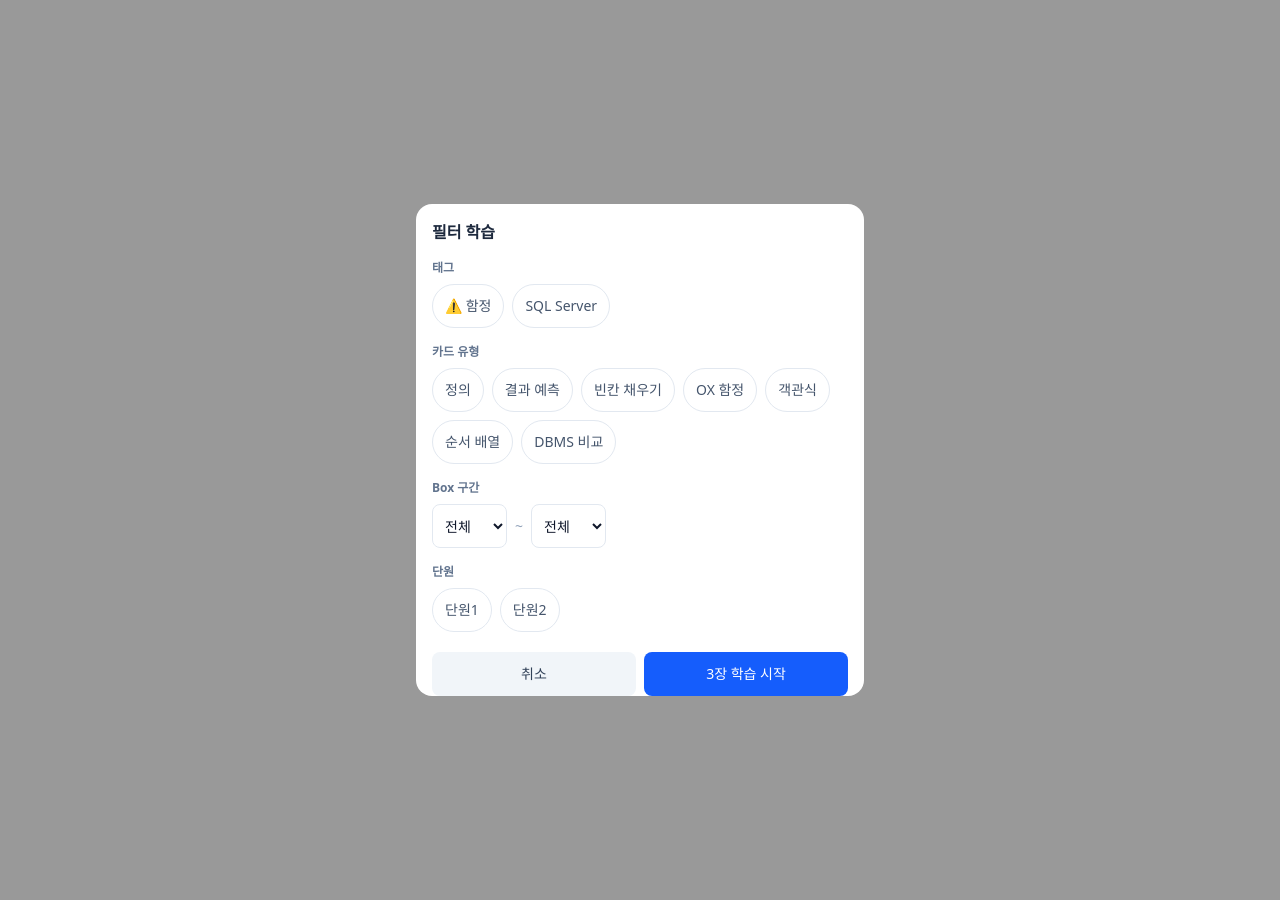
Test: FilterModal › 태그 + 단원 필터를 함께 쓰면 AND로 좁혀진다
Click the button "⚠️ 함정": click(468, 306) 432,284 -> 504,328
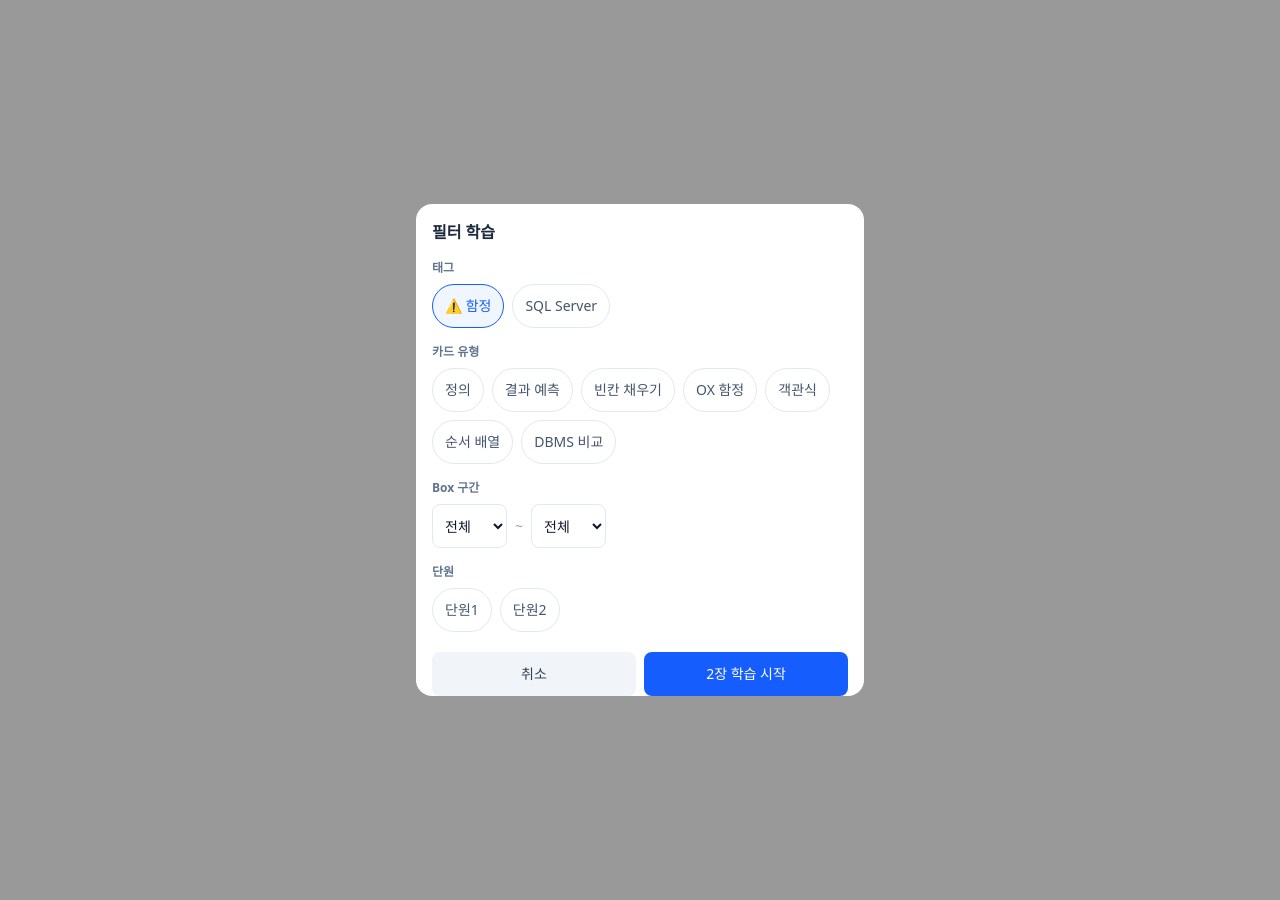
Click the button "단원1": click(462, 610) 432,588 -> 492,632
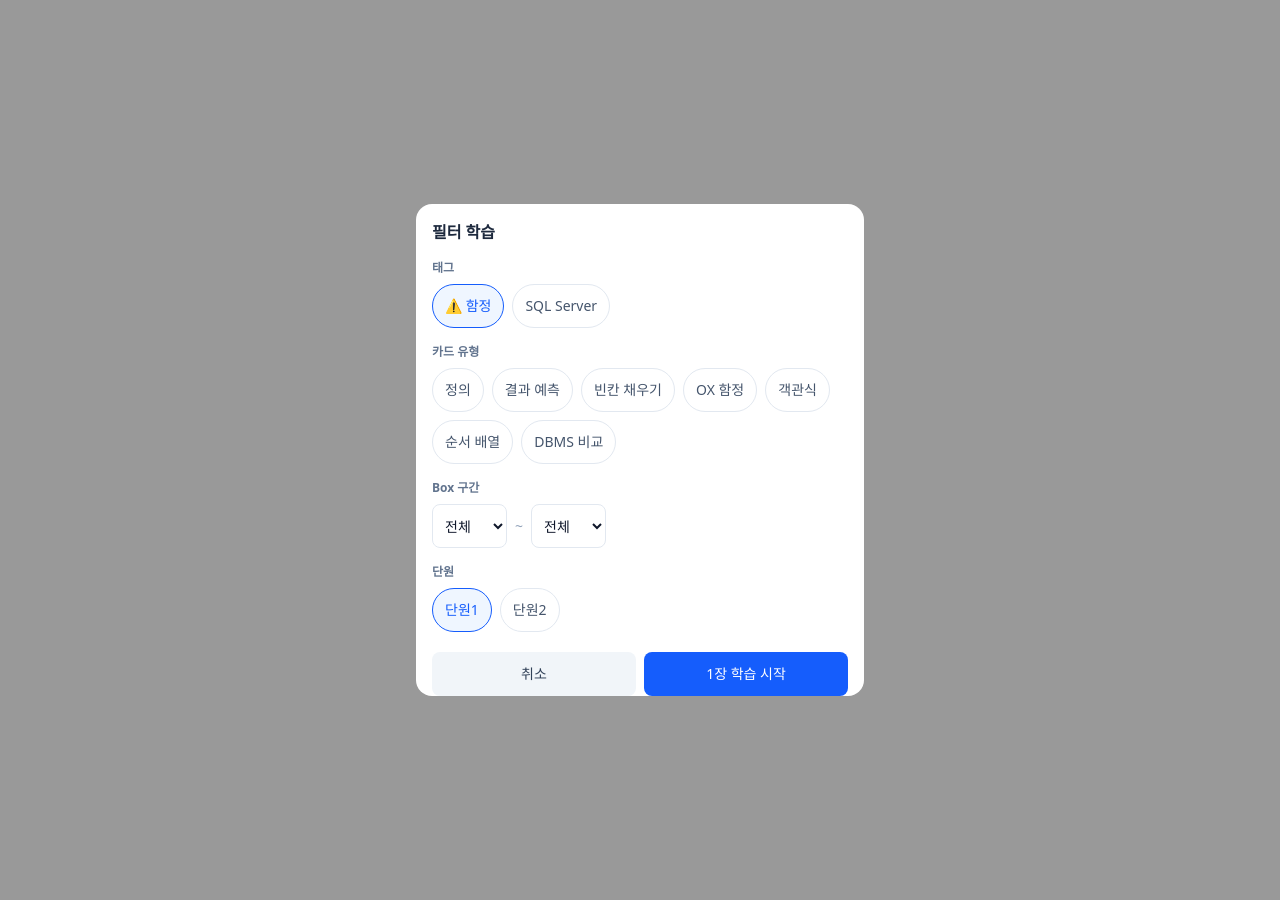
Expected: the button "1장 학습 시작" is shown, 644,652 -> 848,696
